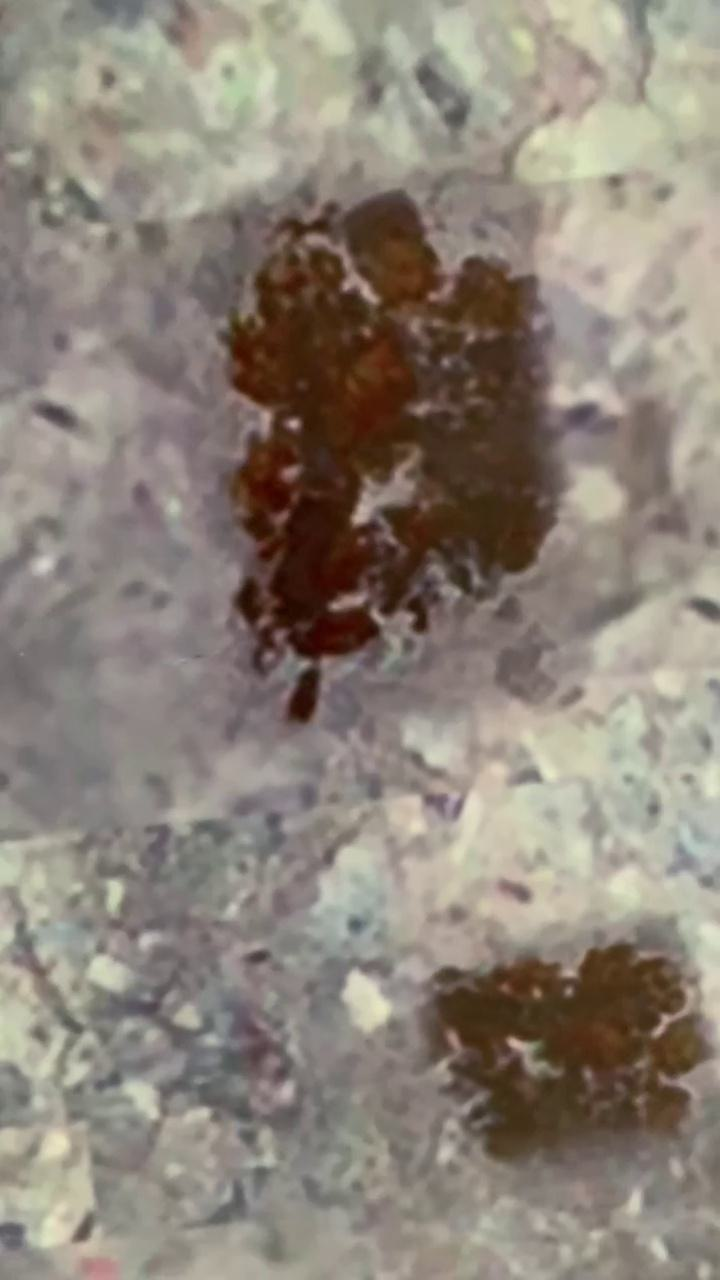Corrosion: (215, 186, 563, 725), (418, 938, 720, 1169)
